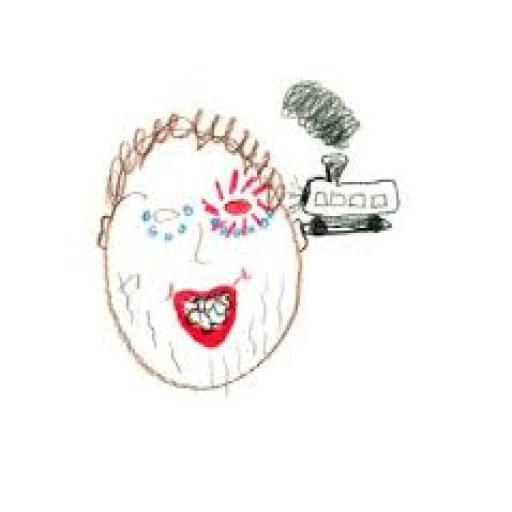person: (66, 101, 318, 404)
